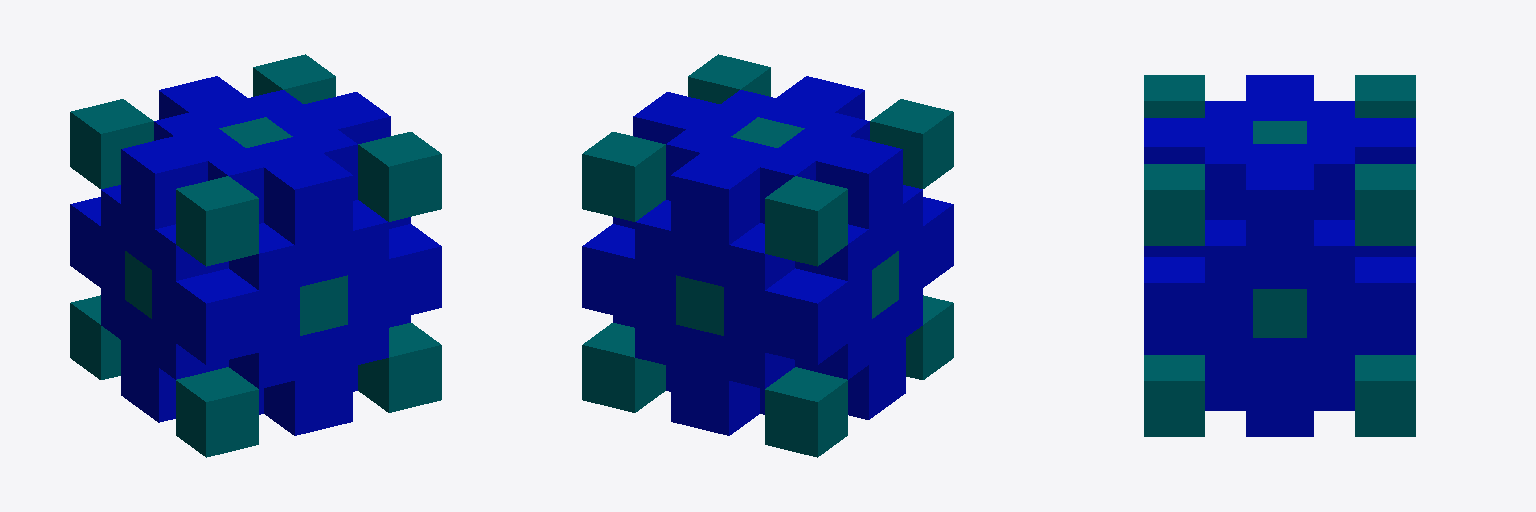
3 views of the same model, side by side, from view 1: azimuth 30°, elevation 25°; view 2: azimuth 150°, elevation 25°; view 3: azimuth 270°, elevation 25° (orthographic).
Visible parts, largest first — view 1: ObjObject; view 2: ObjObject; view 3: ObjObject.
Boxes of the visible parts, x1,y1,x2,y2 form: ObjObject: [70, 54, 441, 457]; ObjObject: [582, 54, 953, 457]; ObjObject: [1144, 75, 1415, 436].
Bounding box in the file's own units: 2 × 2 × 2.